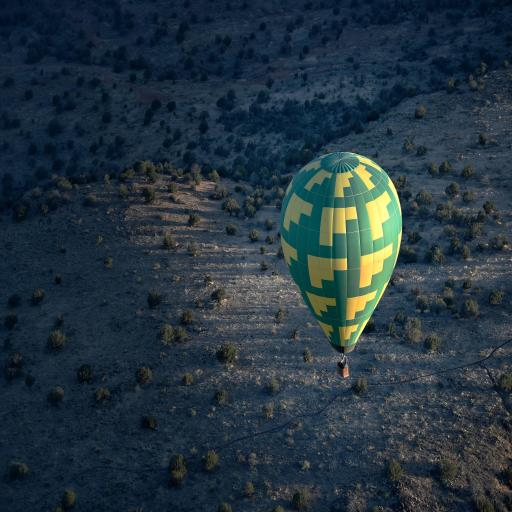hot air ballon: (280, 149, 404, 380)
